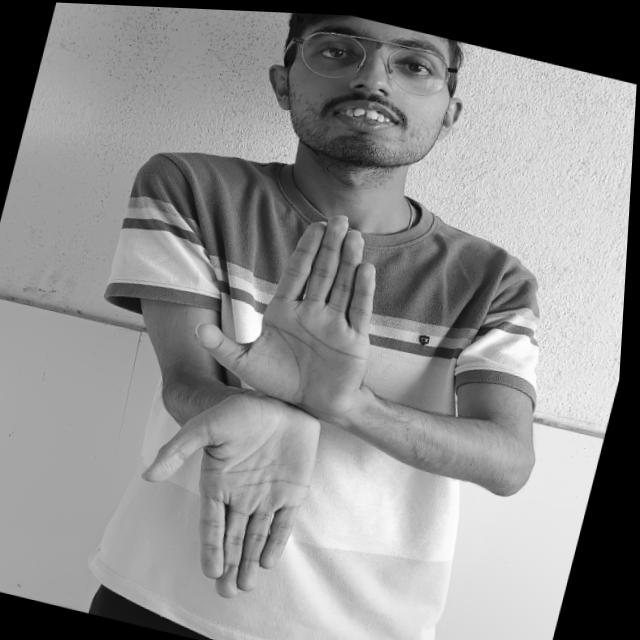Morning: (104, 161, 505, 640)
